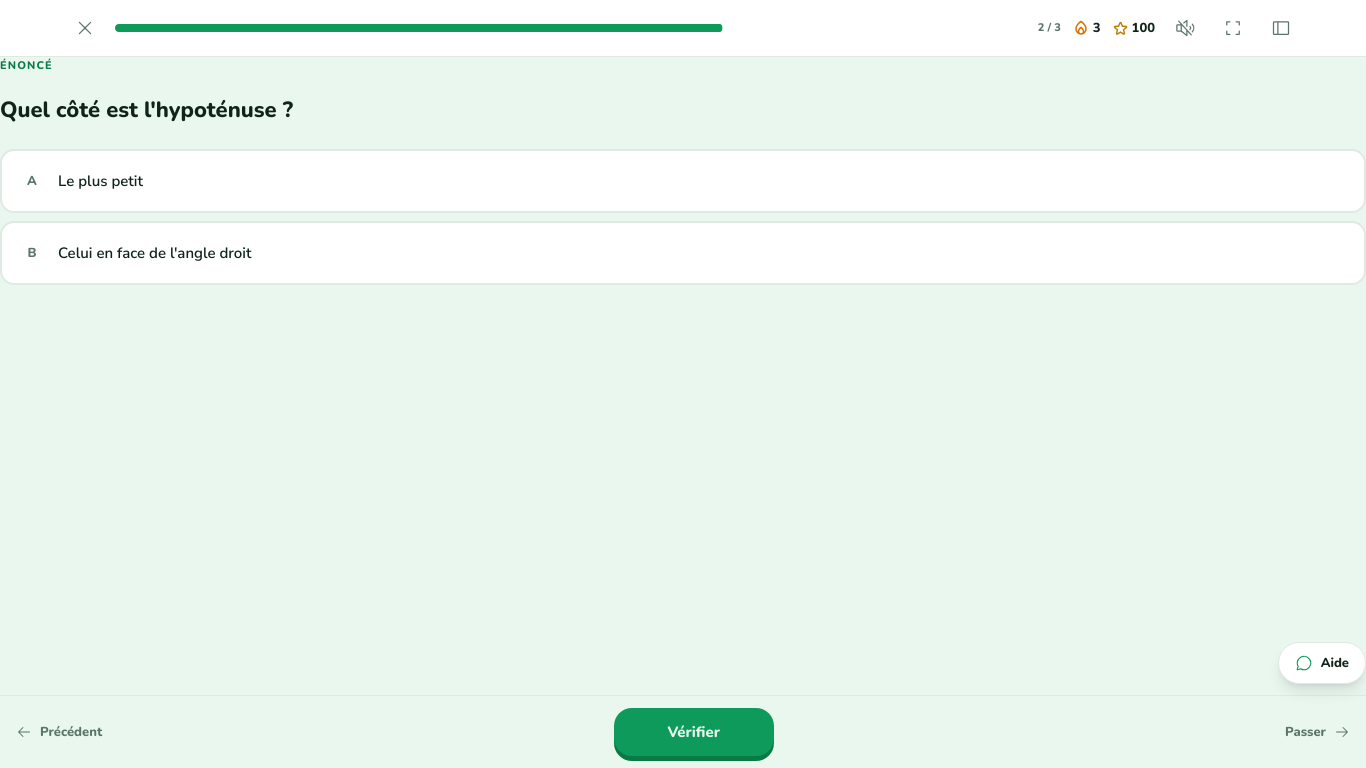
Test: interactive mode — the rewards of an exercise (#248) › animates nothing on a wrong answer: the amber sheet is simply there
Expected: the button "Vérifier" is shown, 614,708 -> 774,756
Click the button with aria-label "Option A:": coordinates (100, 181) 0,149 -> 1365,213
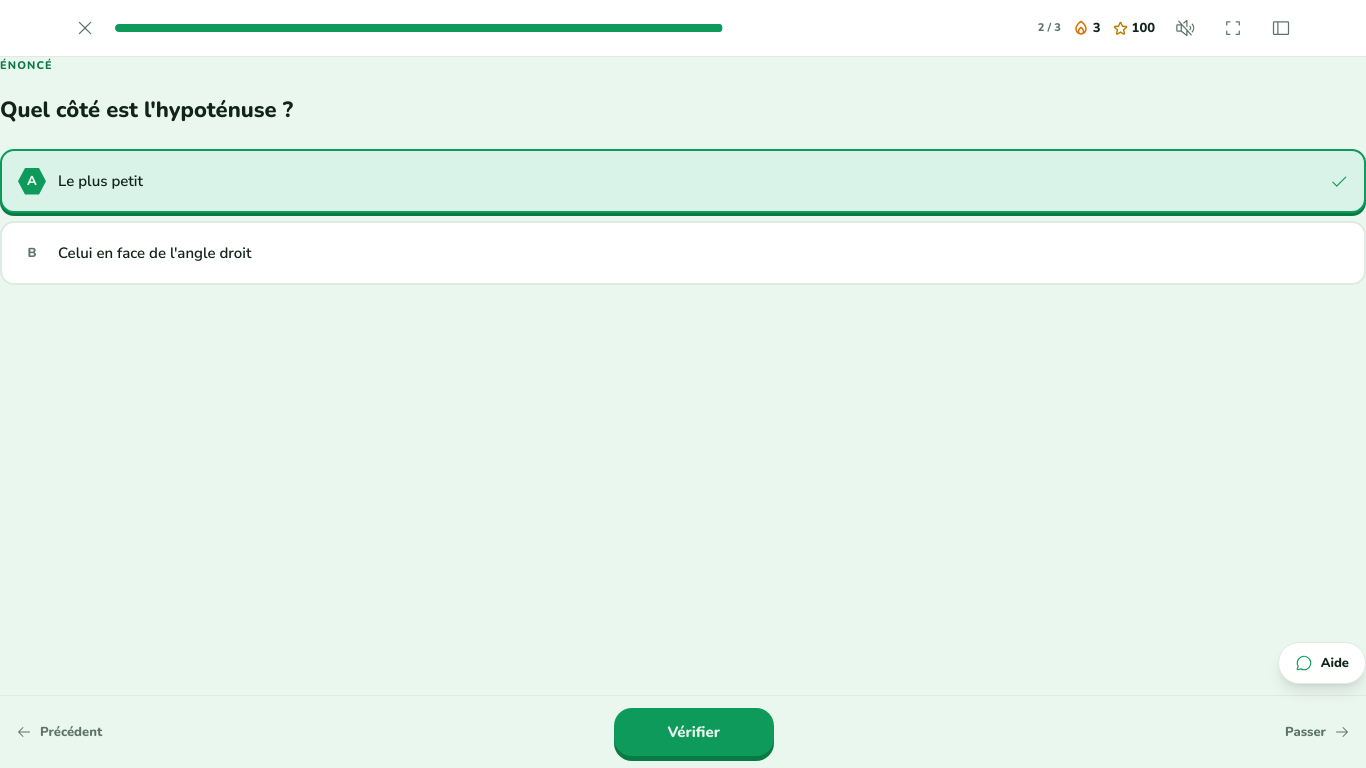
Click the button "Vérifier": coordinates (694, 732) 614,708 -> 774,756
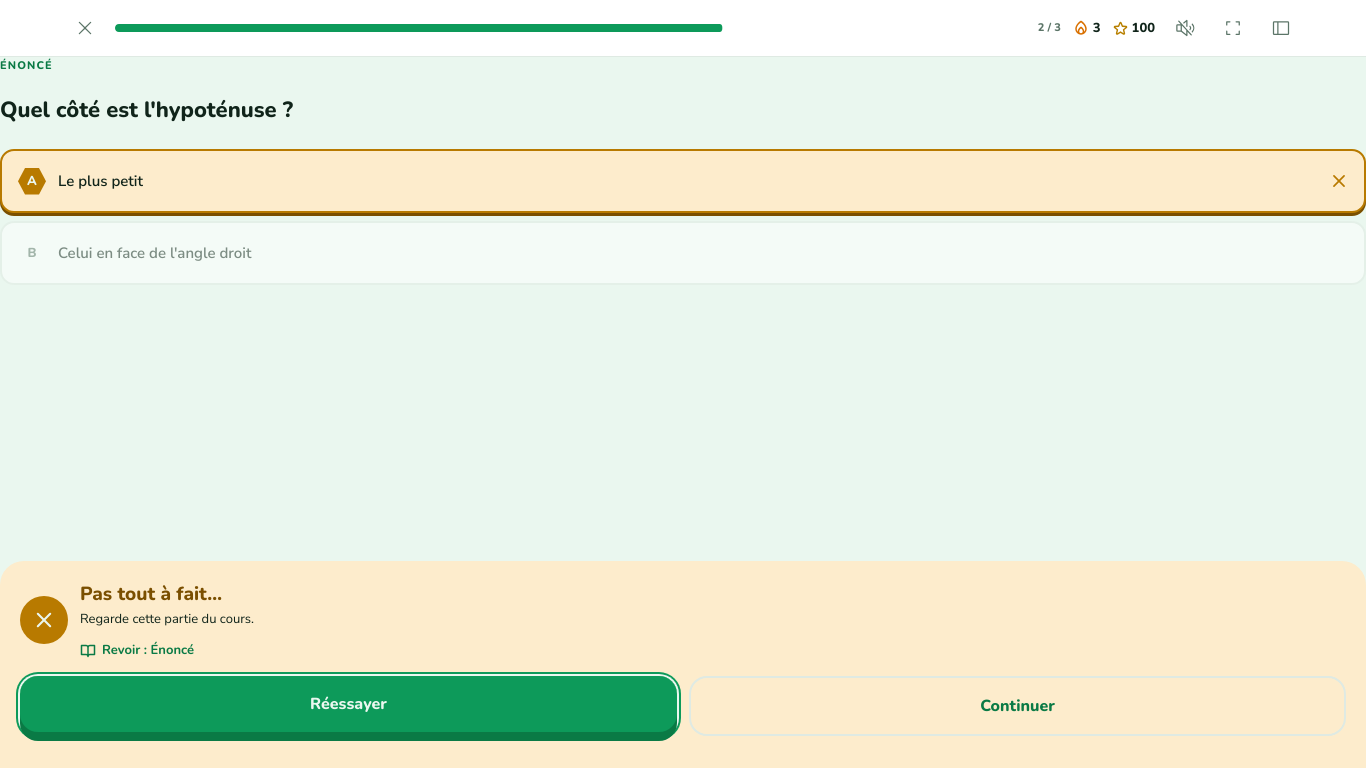
Now the text "Pas tout à fait…" is shown, box 80,581 -> 222,607
